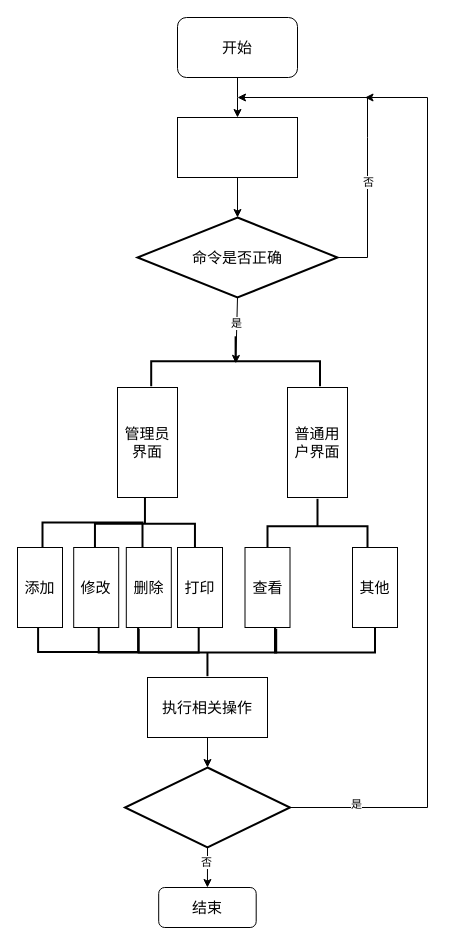
The diagram is 453 pixels wide and 945 high, and some of its shapes have lost their labels. The shapes that lost their labels are listed below. From the top down, each one's centre as x and y in pixels, then its label:
(237,147): 输入操作命令
(207,807): 是否继续
